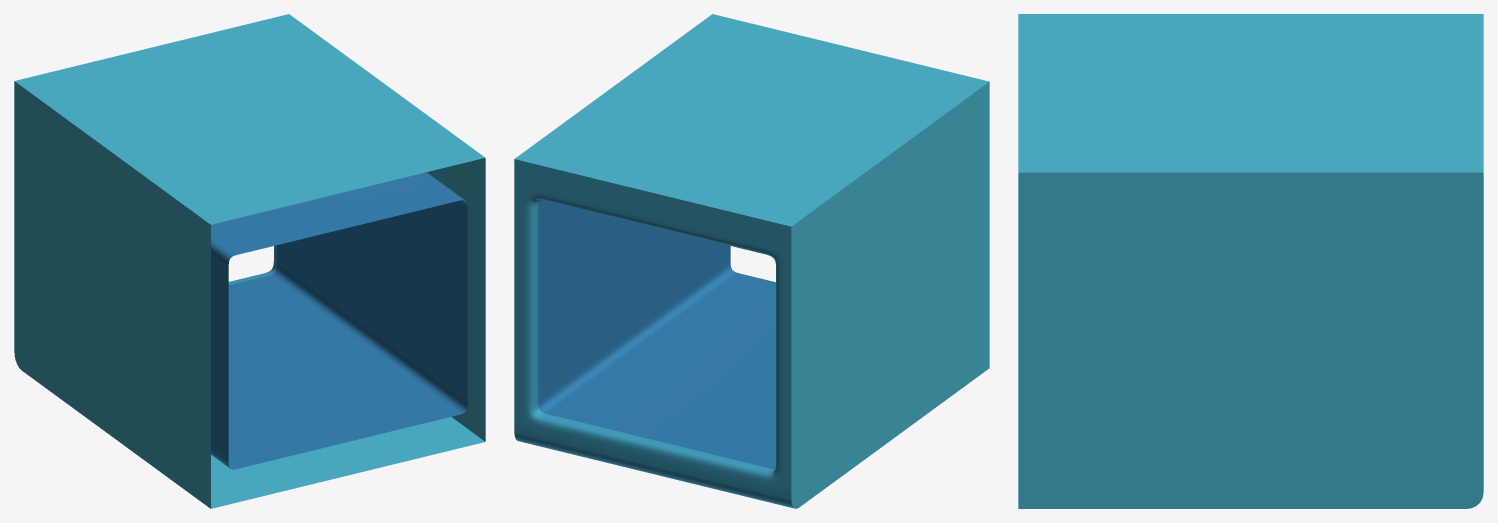
File: Platform-6.fbx
The picture shows the model from 3 angles, left to right: view 1: azimuth 30°, elevation 25°; view 2: azimuth 150°, elevation 25°; view 3: azimuth 270°, elevation 25°; orthographic projection. The views are drawn at different scales.
Parts seen in each view (by area): view 1: Platform-6; view 2: Platform-6; view 3: Platform-6.
Boxes of the visible parts, box(x1,y1,x2,y2) form: Platform-6: box(14, 14, 485, 508); Platform-6: box(514, 14, 989, 508); Platform-6: box(1018, 14, 1483, 508).
Bounding box in the file's own units: 400 × 396 × 496.
